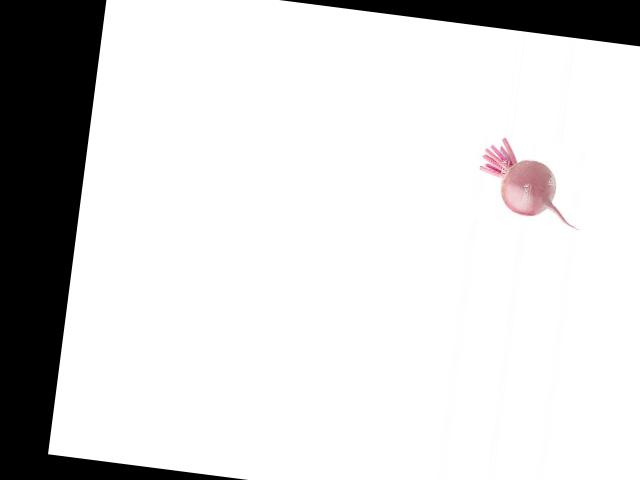beet: (473, 134, 587, 230)
